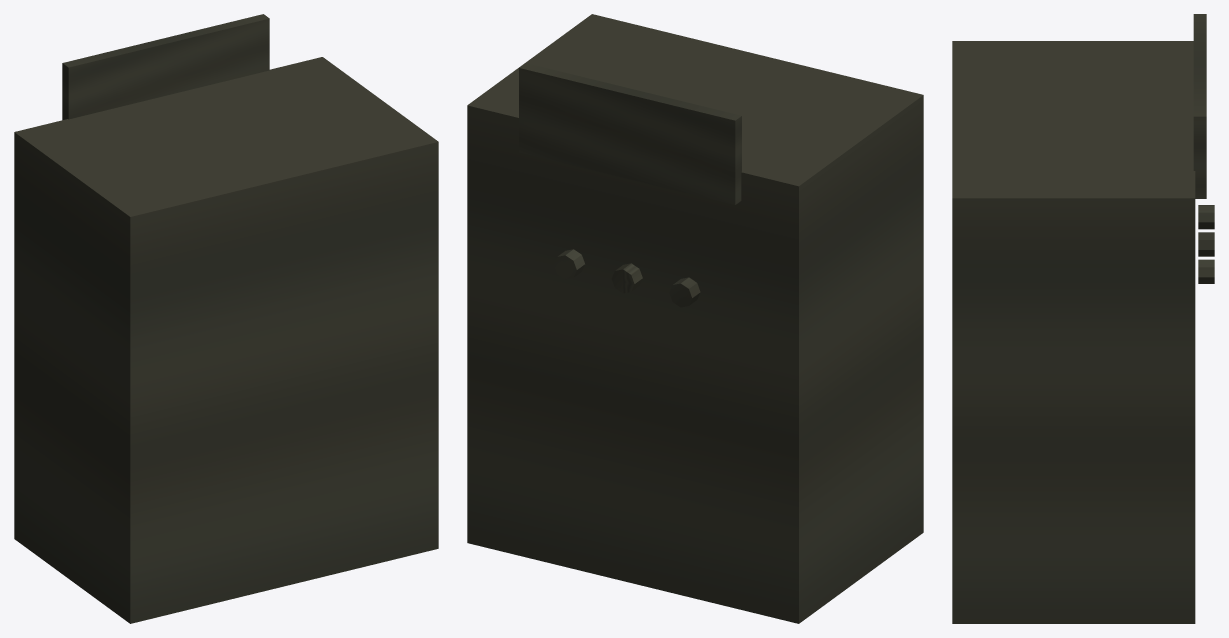
The model's file is env_bldg_warehouse_main_a.glb.
3 renders of one model, left to right at view 1: azimuth 30°, elevation 25°; view 2: azimuth 150°, elevation 25°; view 3: azimuth 270°, elevation 25°, orthographic. The views are drawn at different scales.
Visible parts, largest first — view 1: env_bldg_warehouse_main_a; view 2: env_bldg_warehouse_main_a; view 3: env_bldg_warehouse_main_a.
Boxes of the visible parts, box(x1,y1,x2,y2) form: env_bldg_warehouse_main_a: box(14, 14, 438, 623); env_bldg_warehouse_main_a: box(467, 14, 923, 623); env_bldg_warehouse_main_a: box(952, 14, 1214, 623).
Bounding box in the file's own units: 1.15 × 1.66 × 0.81.
1 material, 1 textured.
